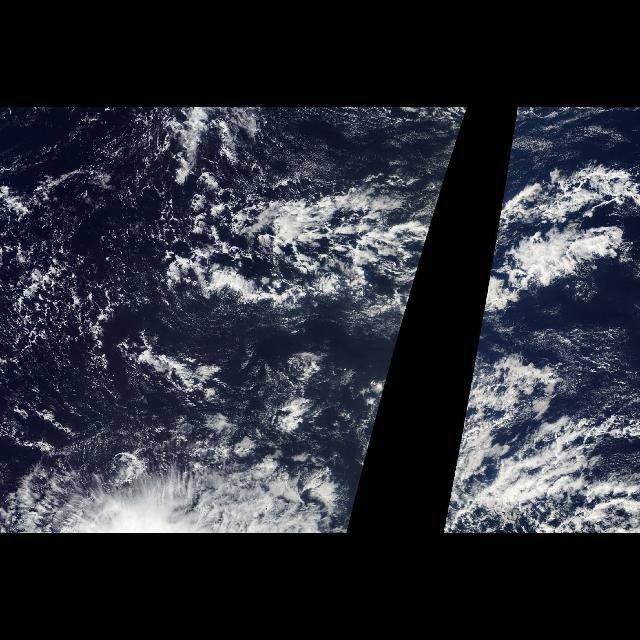Gravel: (2, 192, 118, 366)
